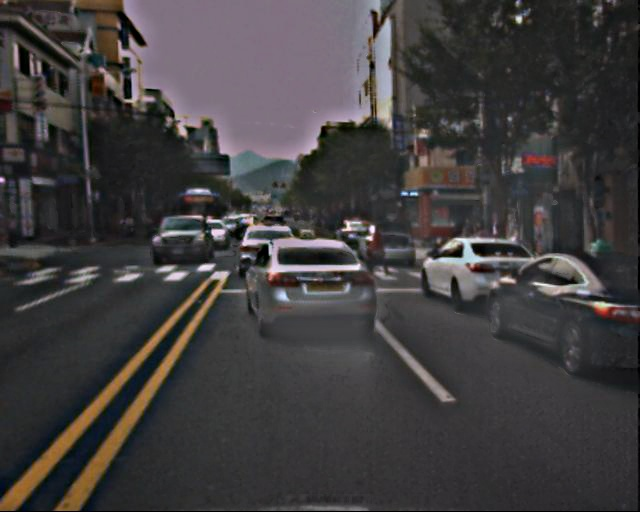person: (367, 224, 388, 274)
